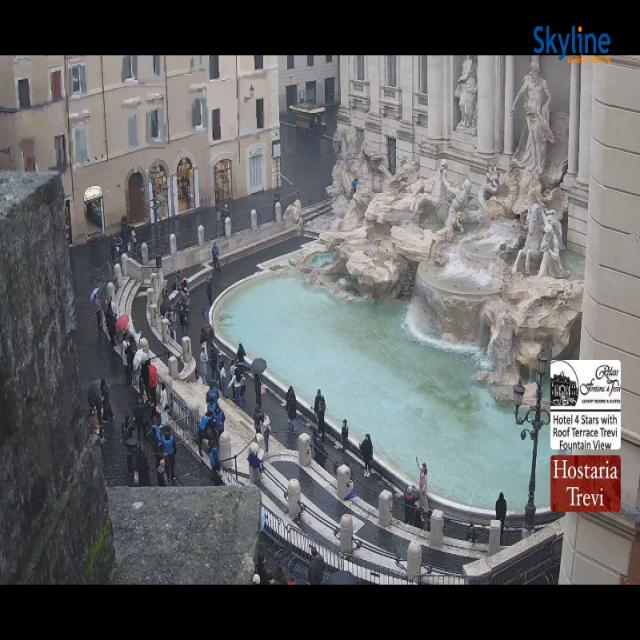person: (200, 310, 218, 379), (126, 410, 149, 462), (200, 309, 217, 374), (152, 408, 171, 456), (138, 378, 155, 429), (162, 426, 176, 483), (125, 423, 140, 475), (219, 355, 236, 398), (148, 408, 163, 454), (89, 409, 104, 455), (135, 399, 151, 441), (96, 382, 107, 443), (416, 457, 428, 512), (164, 298, 180, 339), (198, 411, 212, 456), (205, 322, 218, 369), (404, 485, 419, 525), (404, 486, 419, 525), (308, 548, 324, 584), (128, 338, 139, 389), (208, 340, 219, 390), (136, 446, 150, 485), (256, 553, 273, 584), (209, 448, 223, 485), (101, 379, 113, 422), (208, 400, 223, 434), (360, 435, 372, 477), (121, 219, 134, 257), (116, 222, 130, 257), (496, 492, 507, 536), (228, 371, 242, 405), (172, 278, 187, 309), (286, 386, 296, 432), (104, 304, 115, 345), (206, 380, 221, 410), (115, 330, 127, 367), (121, 332, 131, 376), (260, 413, 271, 452), (150, 413, 161, 452), (102, 298, 116, 328), (314, 436, 327, 468), (236, 369, 247, 405), (94, 392, 103, 436), (208, 445, 221, 475), (127, 336, 135, 384), (163, 306, 175, 338), (121, 415, 135, 442), (416, 508, 432, 531), (174, 282, 186, 312), (317, 397, 325, 442), (413, 508, 430, 529), (141, 360, 150, 398), (104, 305, 113, 343), (159, 290, 172, 316), (206, 384, 219, 410), (149, 363, 157, 405), (213, 405, 224, 435), (160, 383, 168, 424), (206, 385, 219, 410), (268, 566, 286, 584), (110, 312, 119, 347), (179, 302, 188, 337), (200, 344, 208, 383), (219, 359, 227, 398), (207, 379, 219, 405), (121, 334, 129, 373), (89, 408, 100, 436), (157, 459, 168, 487), (107, 313, 116, 347), (122, 416, 135, 439), (248, 450, 262, 471), (112, 235, 122, 264), (119, 329, 130, 355), (161, 288, 172, 314), (272, 565, 287, 584), (94, 296, 102, 331), (181, 279, 191, 307), (136, 364, 144, 399), (414, 509, 428, 529), (167, 308, 176, 339), (174, 285, 183, 316), (176, 273, 187, 298), (176, 270, 187, 294), (314, 390, 323, 419), (180, 283, 190, 309), (255, 373, 262, 409), (285, 386, 295, 411), (104, 299, 115, 321), (121, 217, 131, 241), (181, 180, 189, 209), (253, 405, 261, 434), (212, 243, 220, 272), (313, 390, 321, 419), (128, 332, 138, 355), (128, 331, 138, 354), (110, 298, 119, 323), (216, 205, 229, 222), (195, 364, 206, 384), (180, 279, 190, 301), (341, 419, 348, 450), (183, 179, 190, 209), (195, 365, 206, 384), (104, 299, 114, 319), (200, 319, 207, 347), (236, 344, 246, 363), (128, 332, 136, 355), (260, 506, 267, 532), (228, 357, 237, 377), (116, 329, 127, 345), (104, 300, 112, 321), (131, 228, 137, 255), (116, 236, 123, 259), (207, 277, 212, 308), (111, 299, 117, 323), (185, 185, 191, 209), (468, 523, 475, 543), (318, 395, 325, 415), (110, 236, 115, 264), (156, 450, 163, 469), (229, 359, 235, 379), (181, 176, 188, 193), (177, 177, 183, 195), (218, 353, 224, 370), (184, 177, 190, 192), (202, 308, 208, 323), (224, 204, 229, 219), (215, 186, 219, 204), (252, 575, 260, 584), (224, 205, 229, 219), (178, 270, 183, 283), (172, 283, 177, 292), (287, 579, 295, 584)
